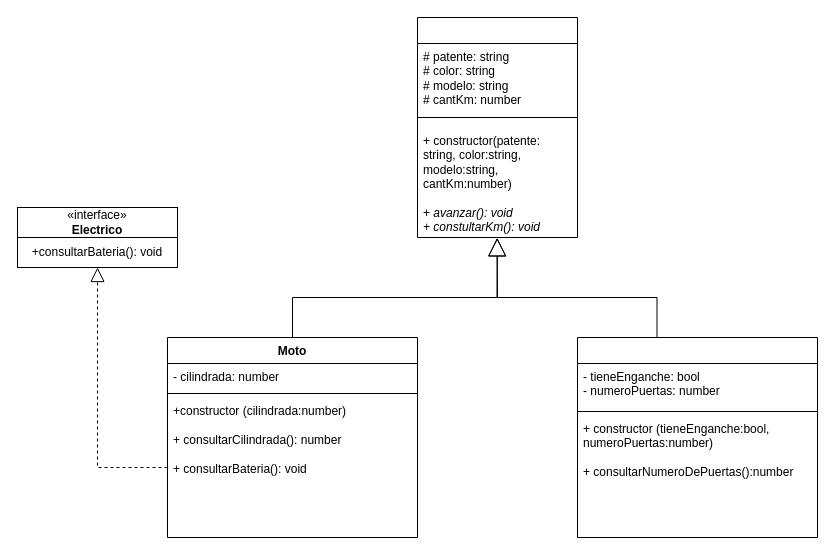
Image size: 835x558. Some labels were removed from this diagram. The box of each missing label's shape, as (x1, y1, x2, y2) in pixels:
Camioneta: (576, 336, 818, 538)
Vehiculo: (416, 16, 578, 238)
